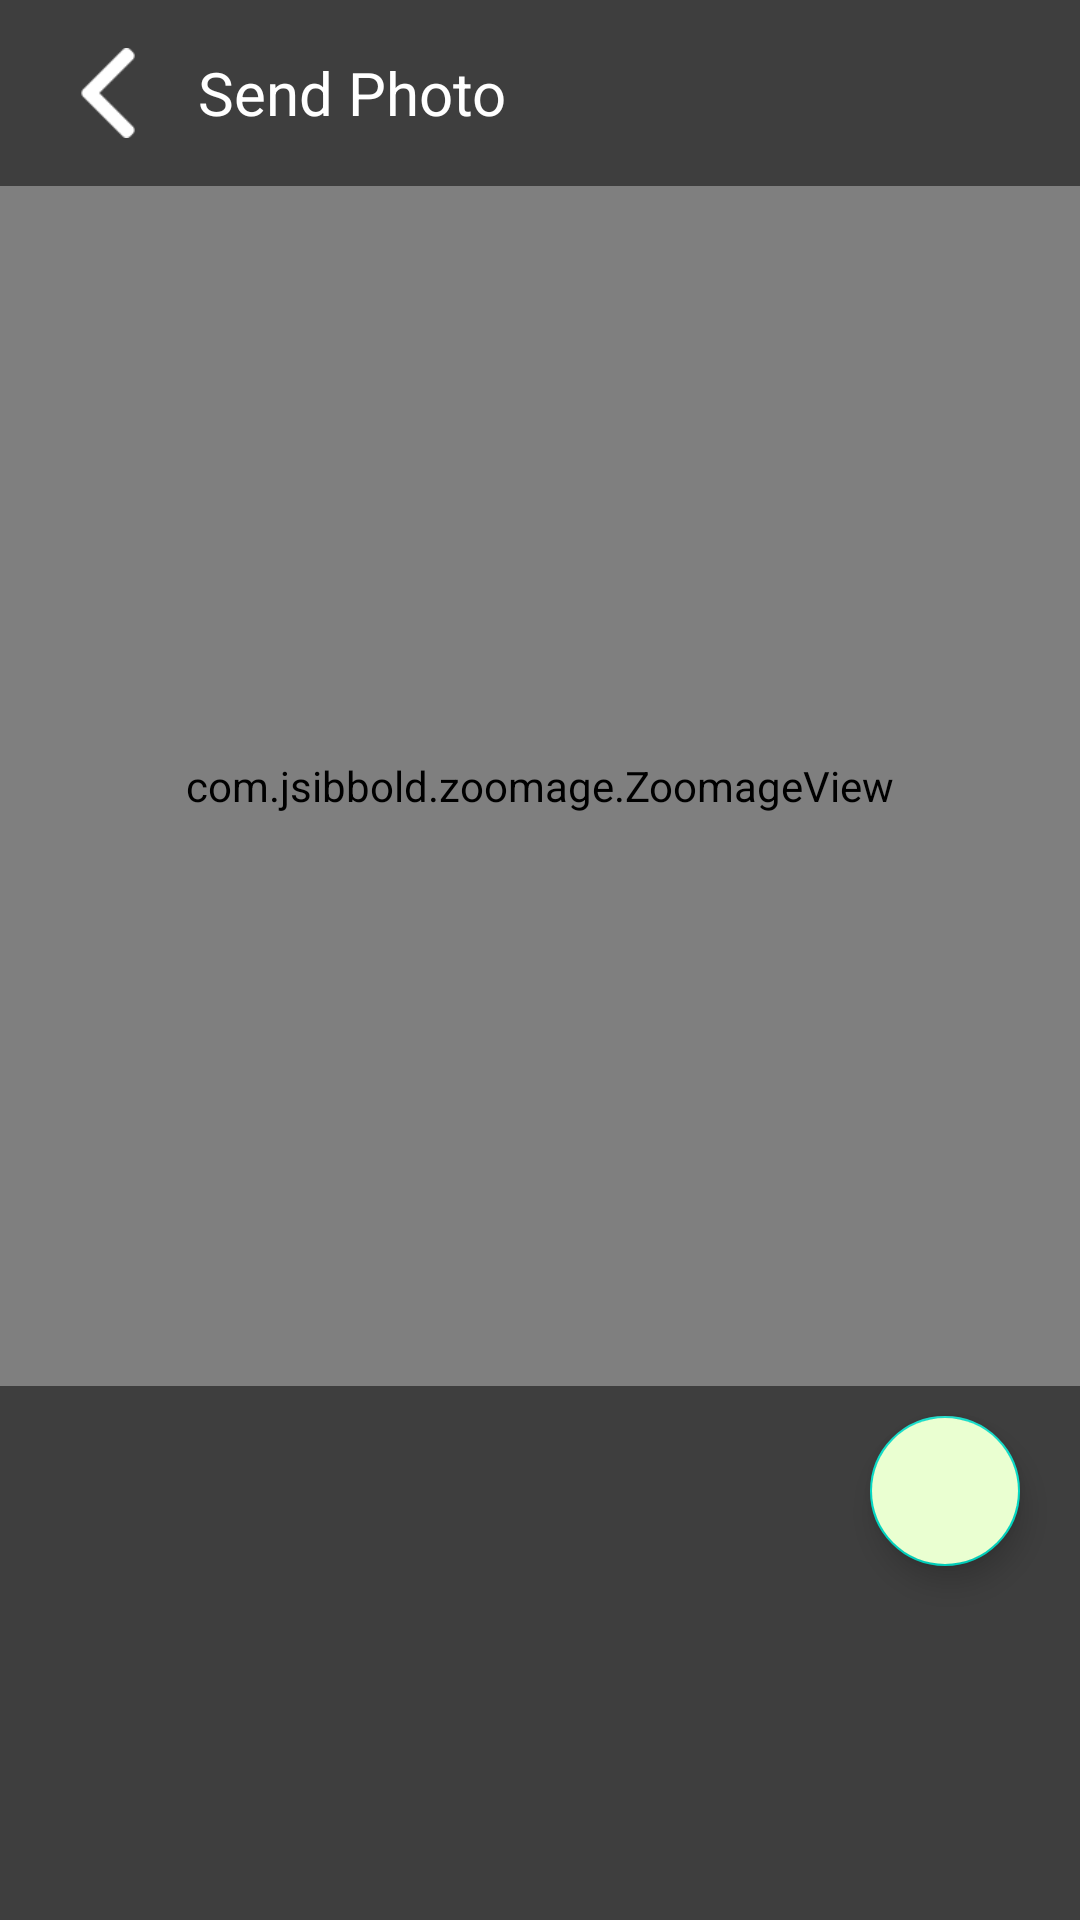

Where icons sit on this 1080 x 1920 app screen, as (x1, y1, x2, y2):
leftarrow: (81, 48, 135, 138)
